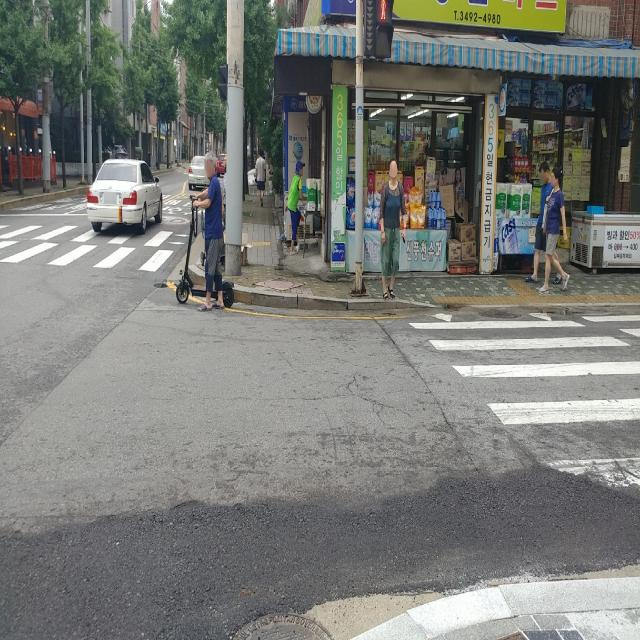빨간불: (365, 0, 403, 54)
횡단보도: (406, 308, 640, 496), (0, 214, 180, 274)
